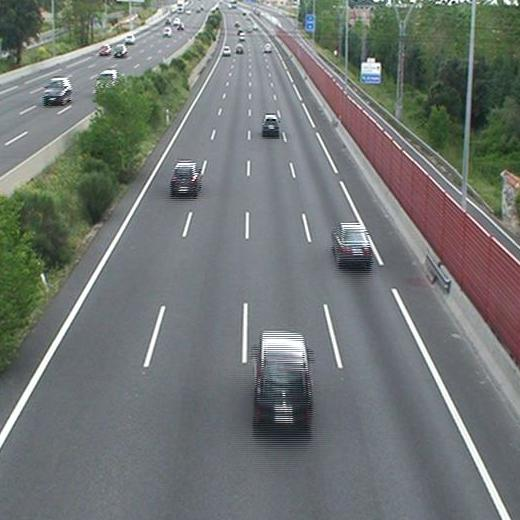car: (254, 333, 312, 425), (331, 224, 371, 264), (171, 163, 200, 193), (262, 115, 280, 135), (221, 47, 231, 56), (263, 43, 272, 52), (236, 42, 243, 53)
